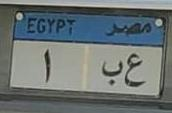1: (41, 48, 53, 84)
ain: (125, 50, 146, 89)
baa: (99, 57, 123, 87)
